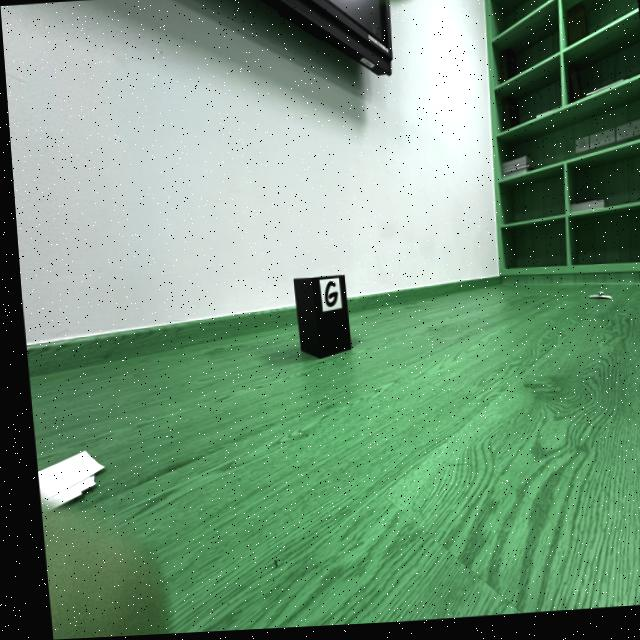G: (319, 282, 335, 311)
